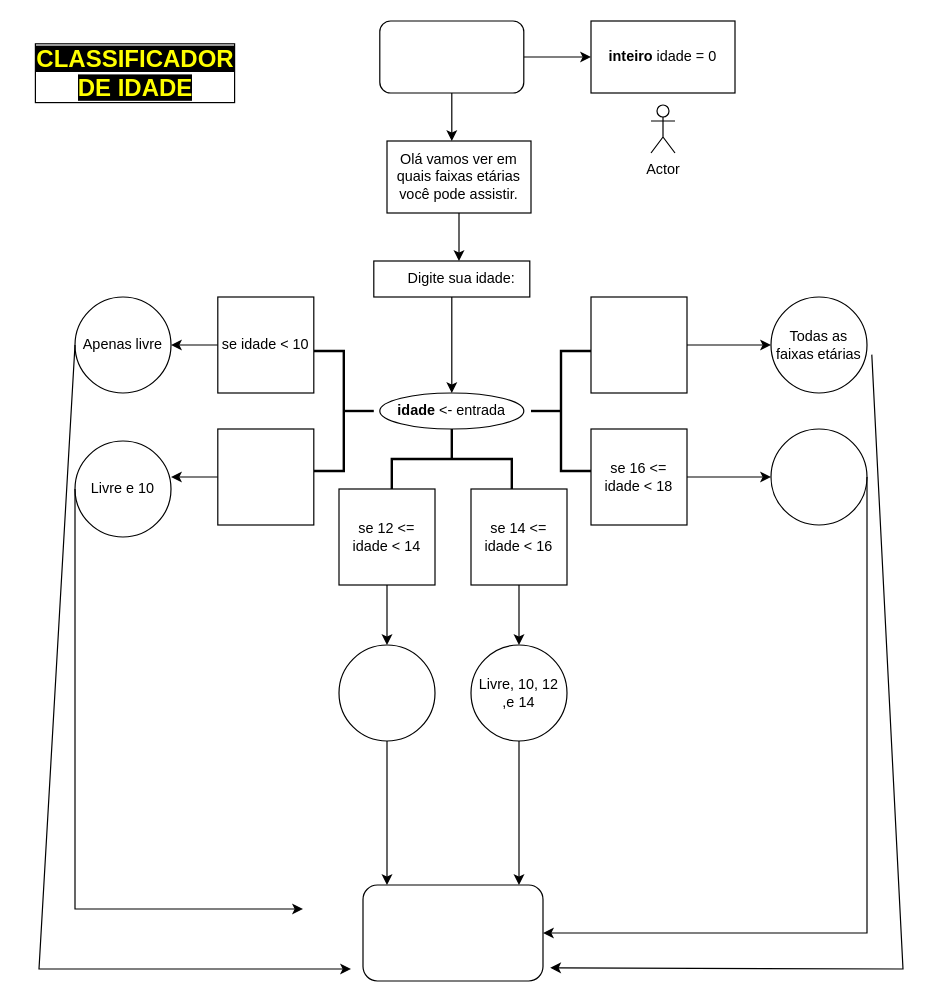
Some shapes in this 934 by 1002 pixel diagram are drawn without their labels. The box of each missing label's shape, as (x1, y1, x2, y2) in pixels:
FIM: (362, 884, 543, 981)
INICIO: (379, 20, 524, 93)
Livre, 10, e 12: (338, 644, 435, 741)
Livre, 10,12,14, e 16: (770, 428, 867, 525)
se 10>= idade <=11: (217, 428, 314, 525)
se idade >= 18: (590, 296, 687, 393)
